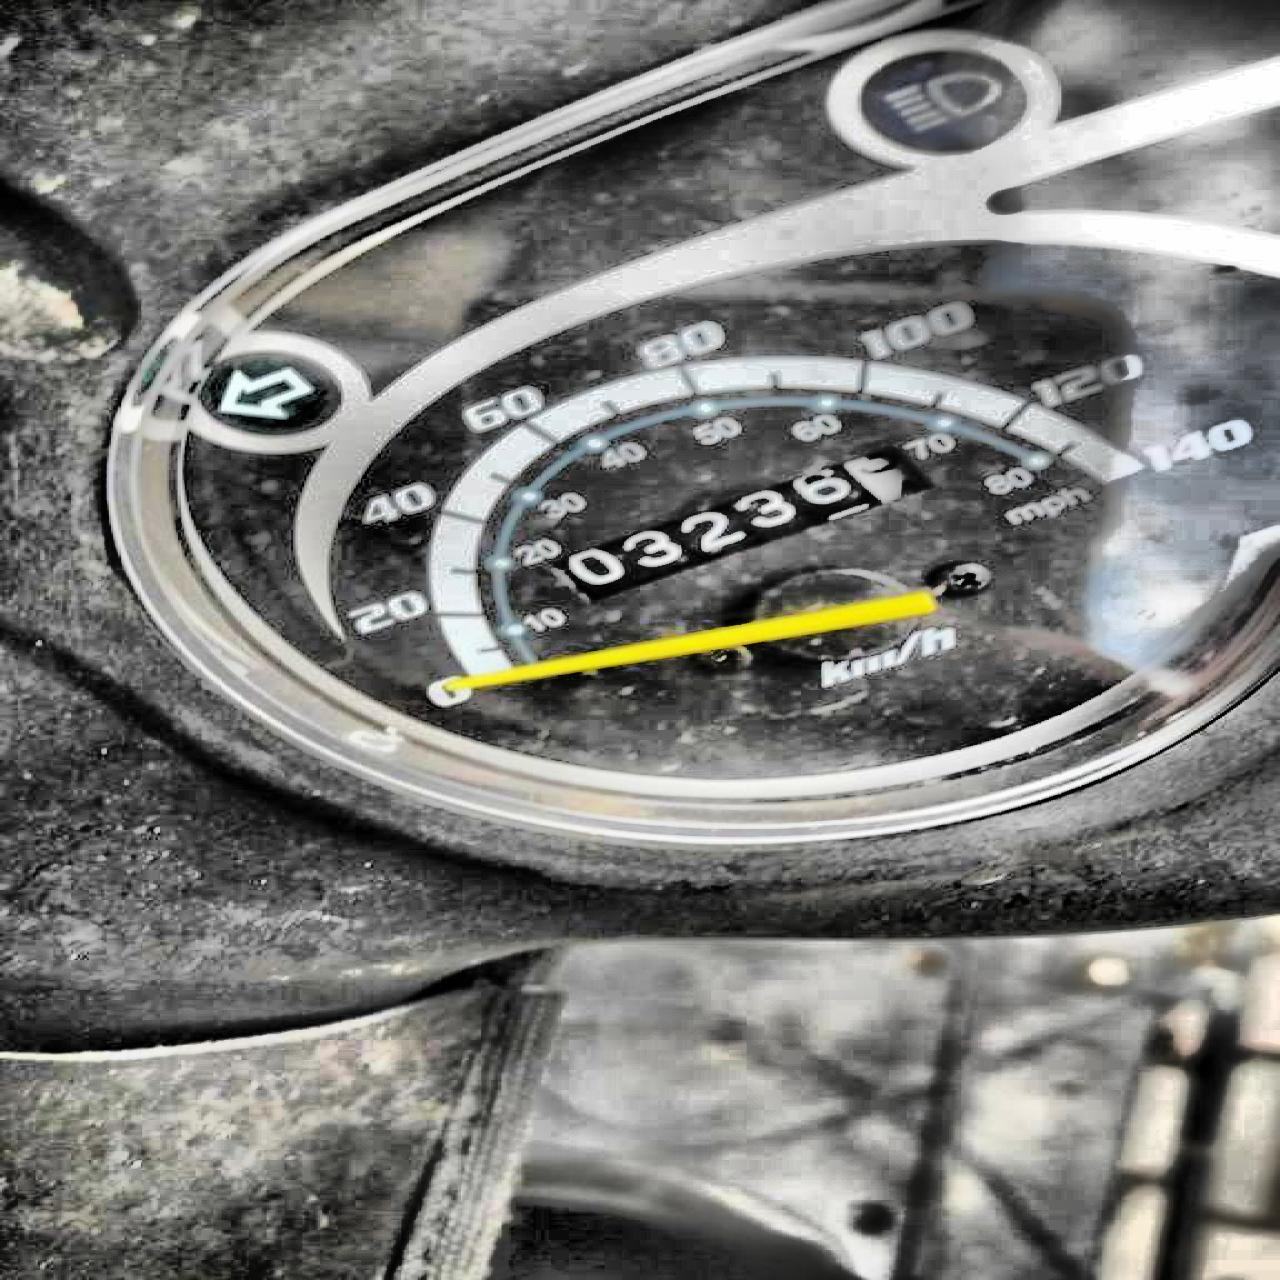0: (565, 547, 625, 584), (613, 443, 647, 462), (558, 490, 584, 511), (533, 539, 560, 557)
2: (678, 512, 744, 551)
3: (727, 488, 797, 530), (618, 529, 682, 566), (838, 444, 898, 477), (533, 501, 567, 518)
4: (600, 447, 625, 469)
6: (784, 468, 856, 503)
7: (900, 437, 931, 458)
odometer: (533, 443, 938, 602)
